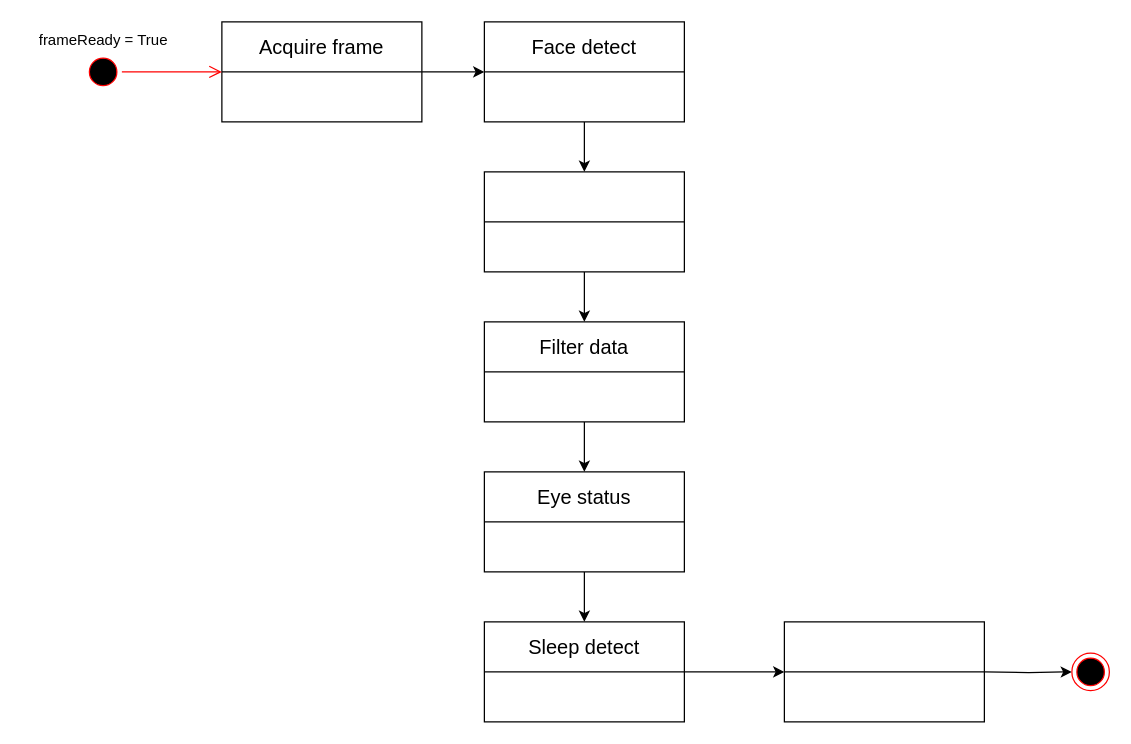
Image size: 1131x744. Some labels were removed from this diagram. The shapes that lost their labels are listed below. From the top down, each one's box as (x1, y1, x2, y2) in pixels, then its label:
(483, 171, 684, 272): Eye detect
(783, 621, 984, 722): Close thread
